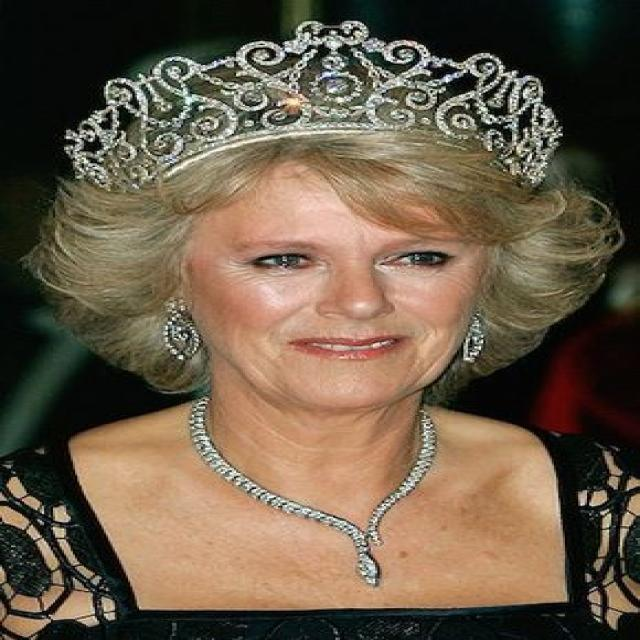Earring: (158, 263, 204, 373), (438, 299, 502, 369)
